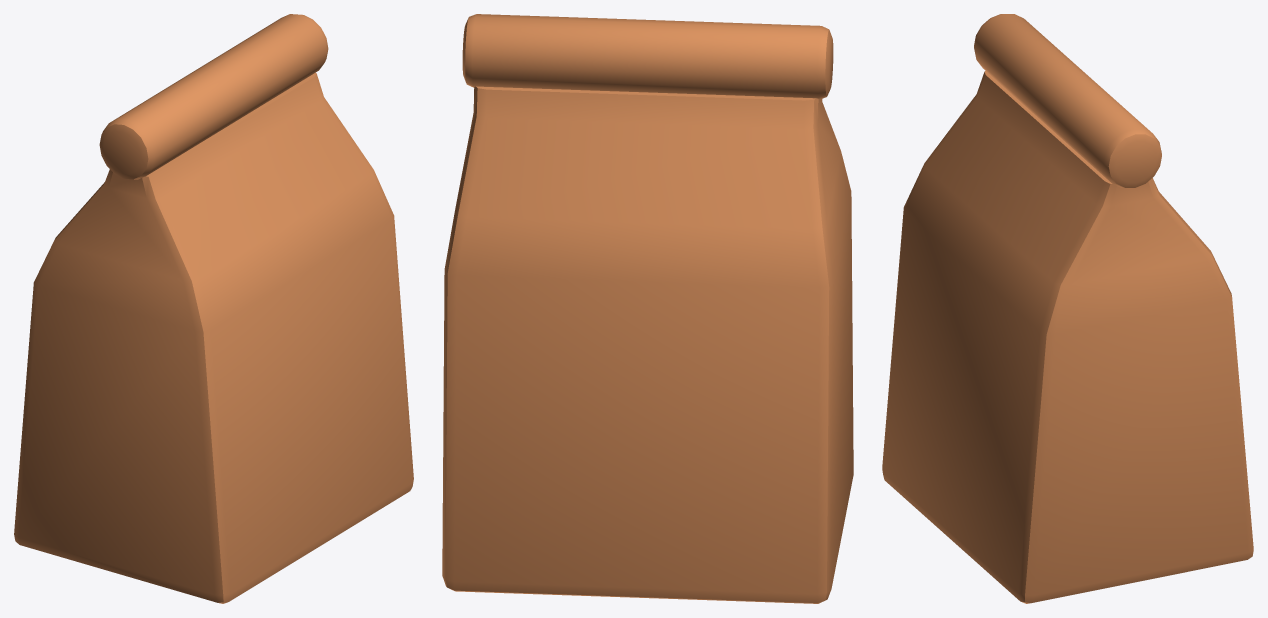
The model's file is flour bag.fbx.
3 views of the same model, side by side, from view 1: azimuth 30°, elevation 25°; view 2: azimuth 150°, elevation 25°; view 3: azimuth 270°, elevation 25° (orthographic). The views are drawn at different scales.
Visible parts, largest first — view 1: flour bag closed; view 2: flour bag closed; view 3: flour bag closed.
Boxes of the visible parts, x1=… form: flour bag closed: x1=14, y1=14, x2=413, y2=603; flour bag closed: x1=442, y1=14, x2=853, y2=603; flour bag closed: x1=882, y1=14, x2=1253, y2=603.
Bounding box in the file's own units: 23.15 × 28.02 × 20.98.
